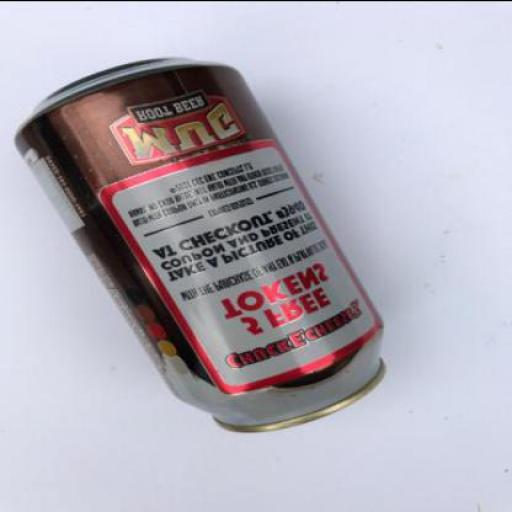metal: (12, 56, 386, 430)
